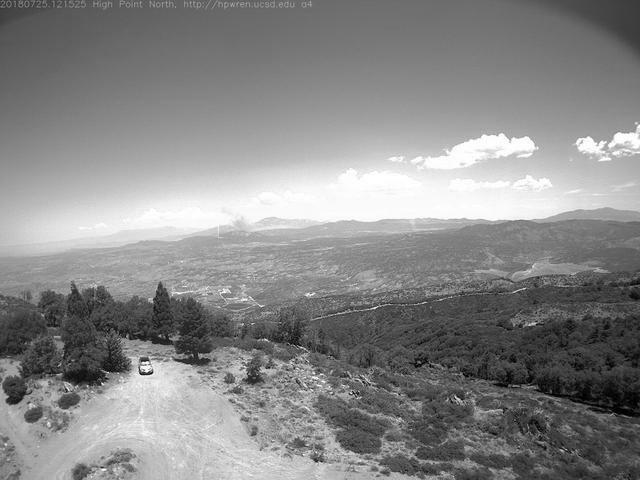smoke: (220, 208, 257, 240)
